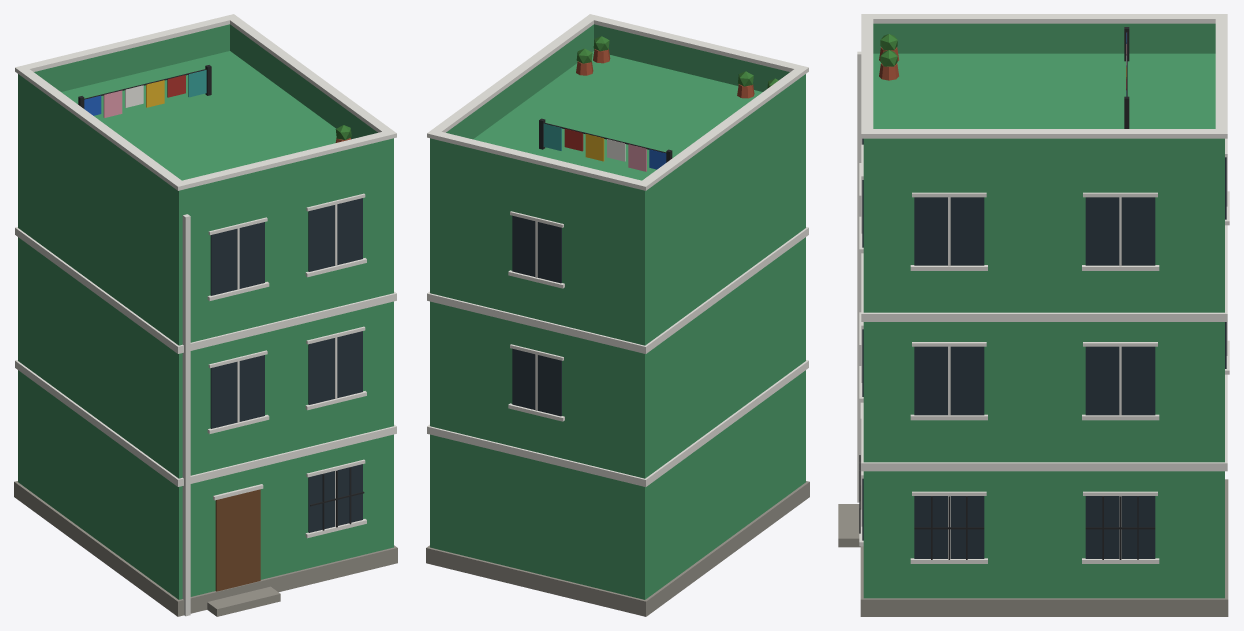
Rendered from BAY_F_Corner_T.glb.
3 views of the same model, side by side, from view 1: azimuth 30°, elevation 25°; view 2: azimuth 150°, elevation 25°; view 3: azimuth 270°, elevation 25° (orthographic). The views are drawn at different scales.
Visible parts, largest first — view 1: BAY_F_Corner_T; view 2: BAY_F_Corner_T; view 3: BAY_F_Corner_T.
Boxes of the visible parts, left/top/right/bottom form: BAY_F_Corner_T: left=14, top=14, right=397, bottom=616; BAY_F_Corner_T: left=426, top=14, right=809, bottom=616; BAY_F_Corner_T: left=838, top=14, right=1229, bottom=616.
Bounding box in the file's own units: 4.52 × 8.4 × 6.17.
Materials: 1 (1 with a texture image).
